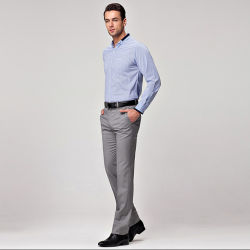F_belt: (98, 96, 138, 108)
F_dress pants: (99, 104, 138, 230)
F_shirt: (102, 37, 163, 104)
